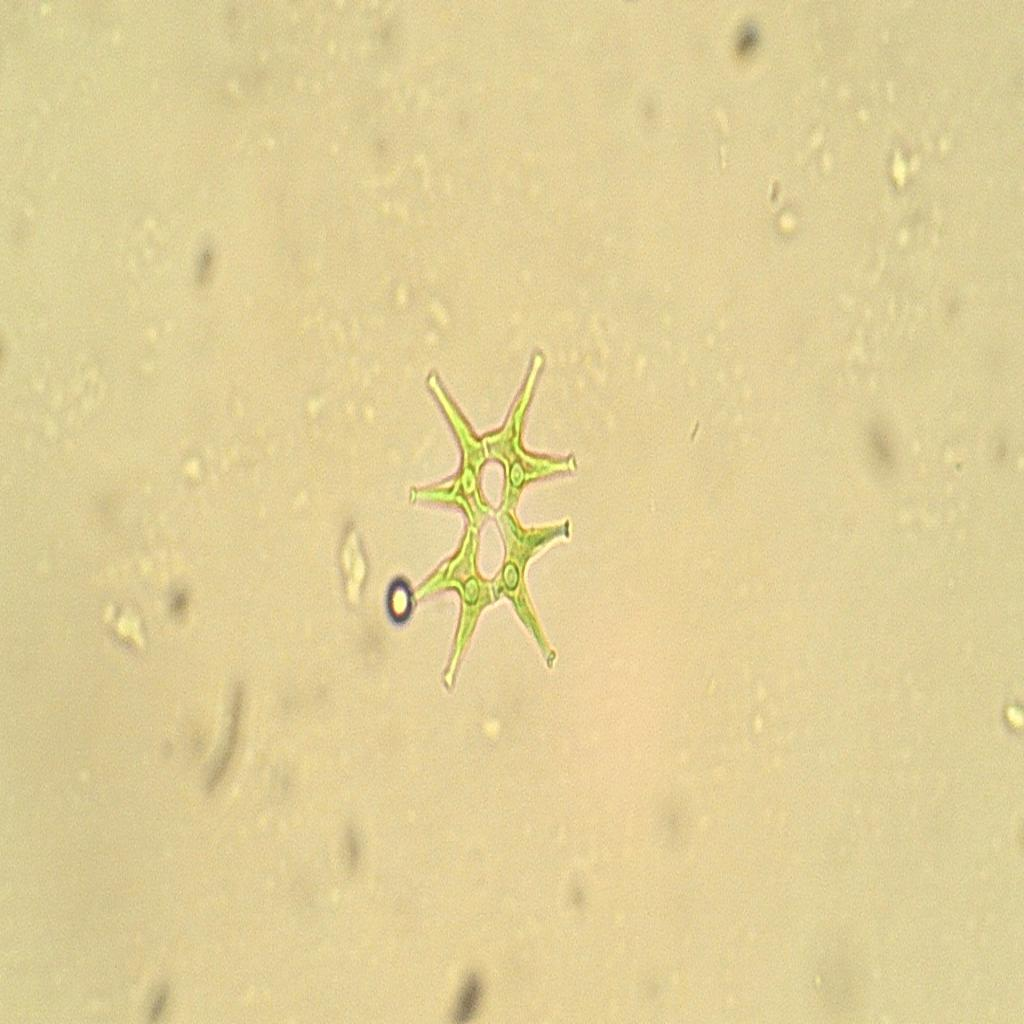Pediastrum_CF: (367, 342, 599, 695)
